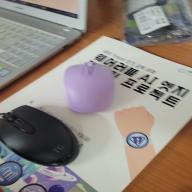mouse: (62, 60, 118, 113)
